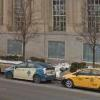Car: (3, 52, 62, 87)
